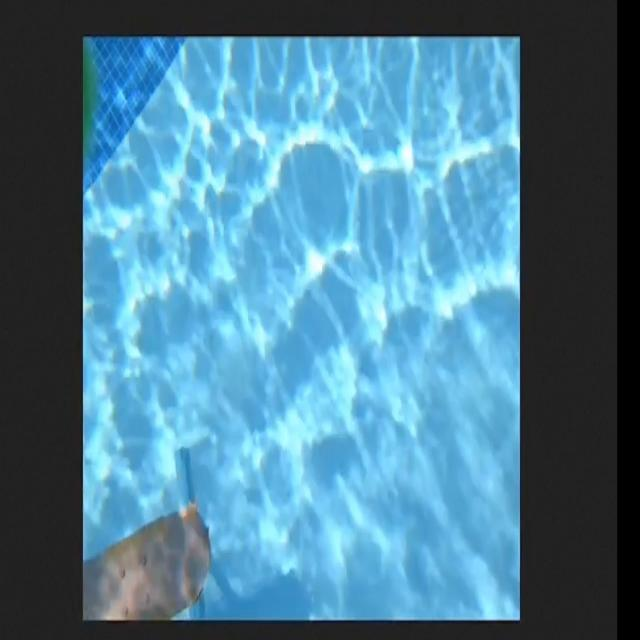Path: (84, 503, 213, 619)
